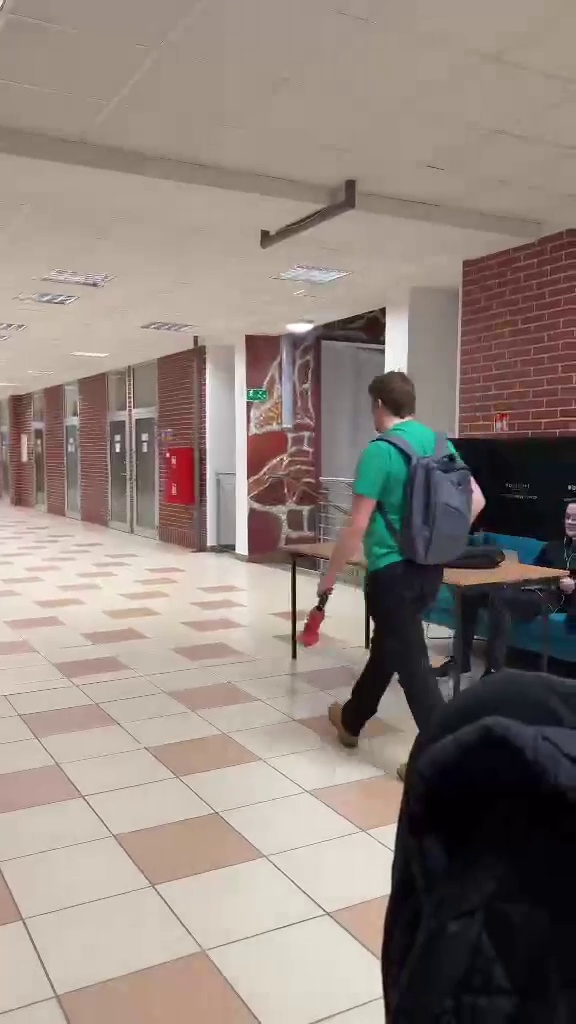no vest: (295, 355, 466, 737)
